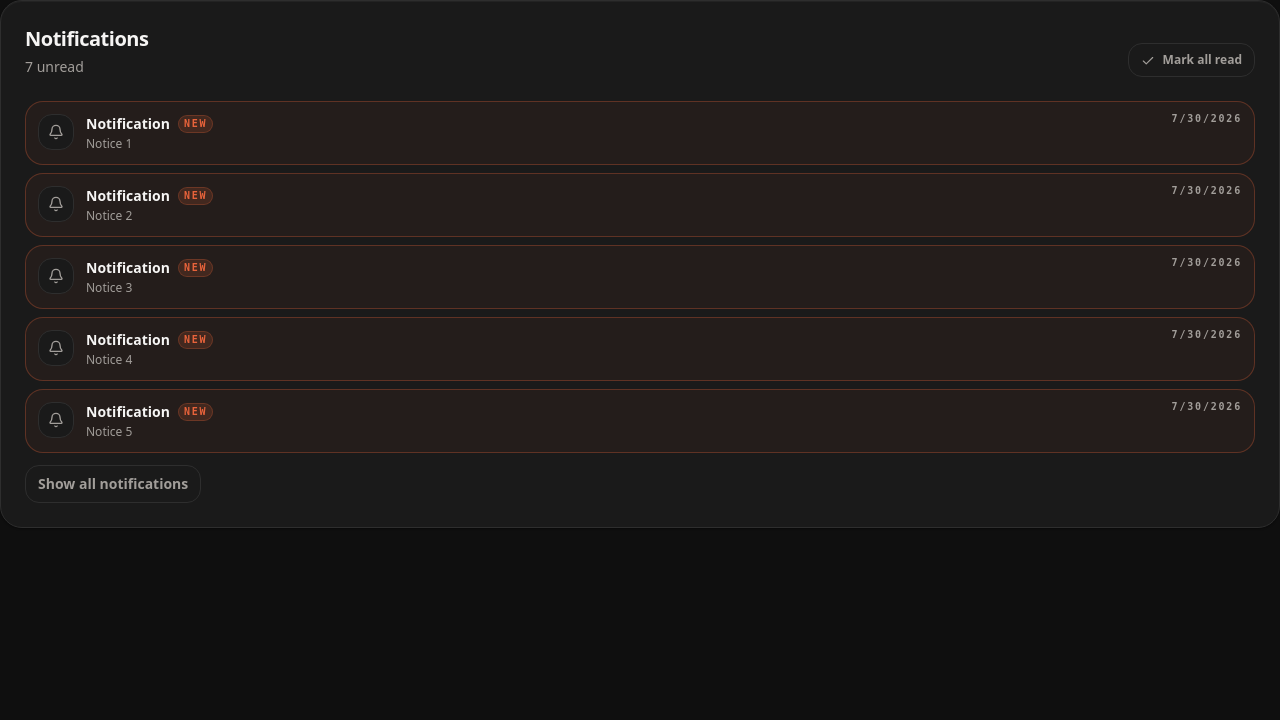
NotificationsPanel › shows five notifications until the rest are expanded
expect the text "Notice 5" is shown: met, box [86,423,132,440]
expect the text "Notice 6" is not shown: met
Click the button "Show all notifications" at coordinates (113, 484), box [25,465,201,503]
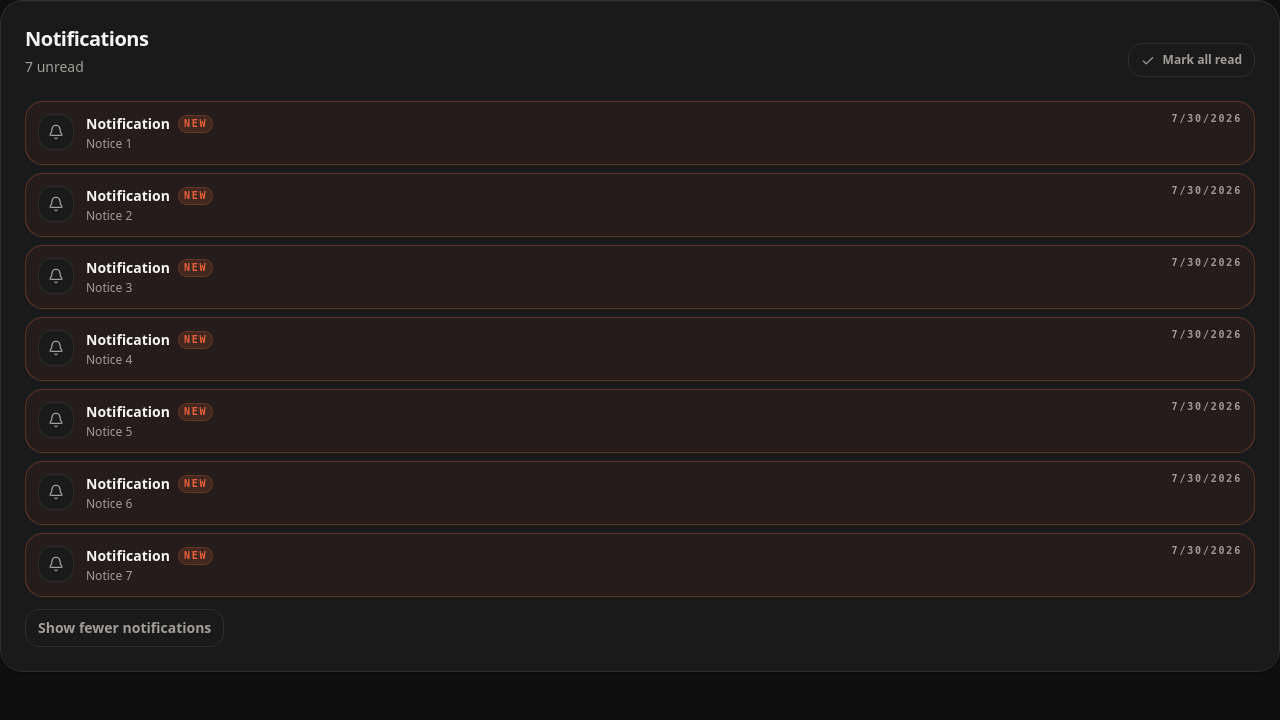
expect the text "Notice 6" is shown: met, box [86,495,132,512]
expect the text "Notice 7" is shown: met, box [86,567,132,584]
expect the button "Show fewer notifications" is expanded: met, box [25,609,224,647]
